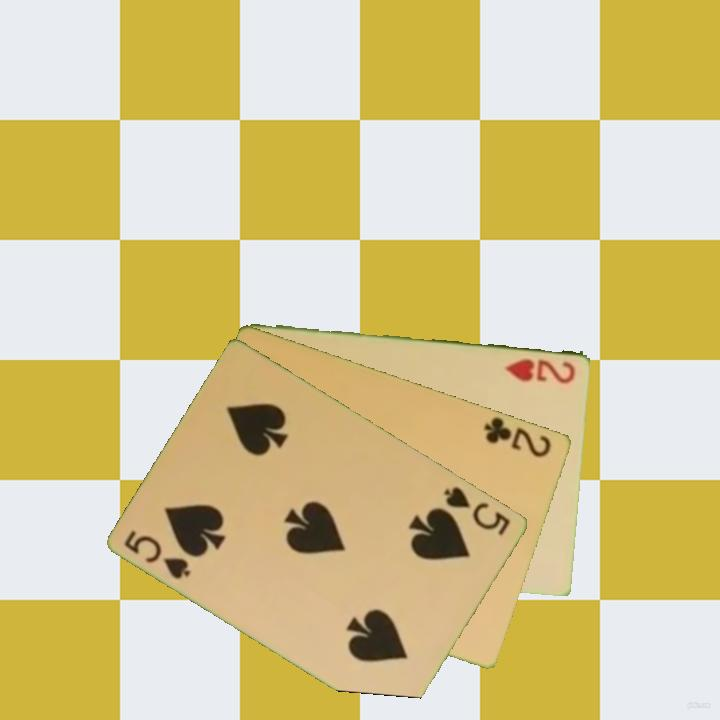2c: (480, 413, 555, 460)
2h: (501, 355, 579, 386)
5s: (121, 526, 195, 582), (441, 482, 514, 538)
